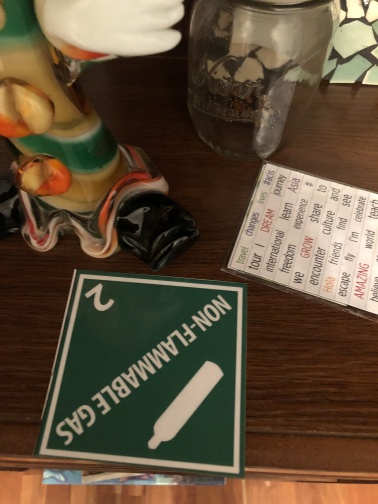NonFlammableGas: (33, 269, 248, 479)
